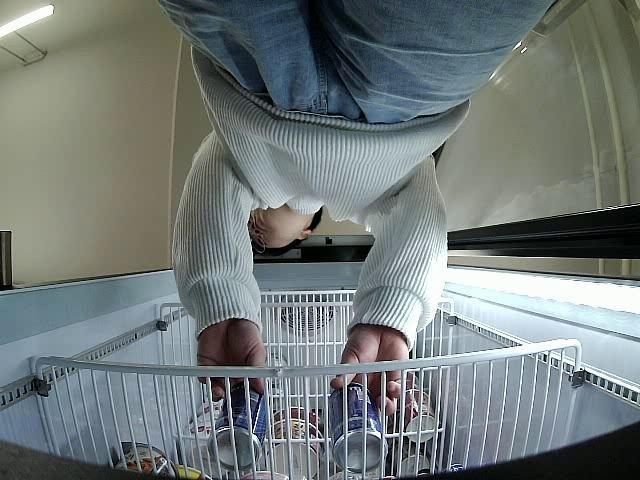16_hot6: (327, 384, 390, 473), (208, 384, 266, 474)
